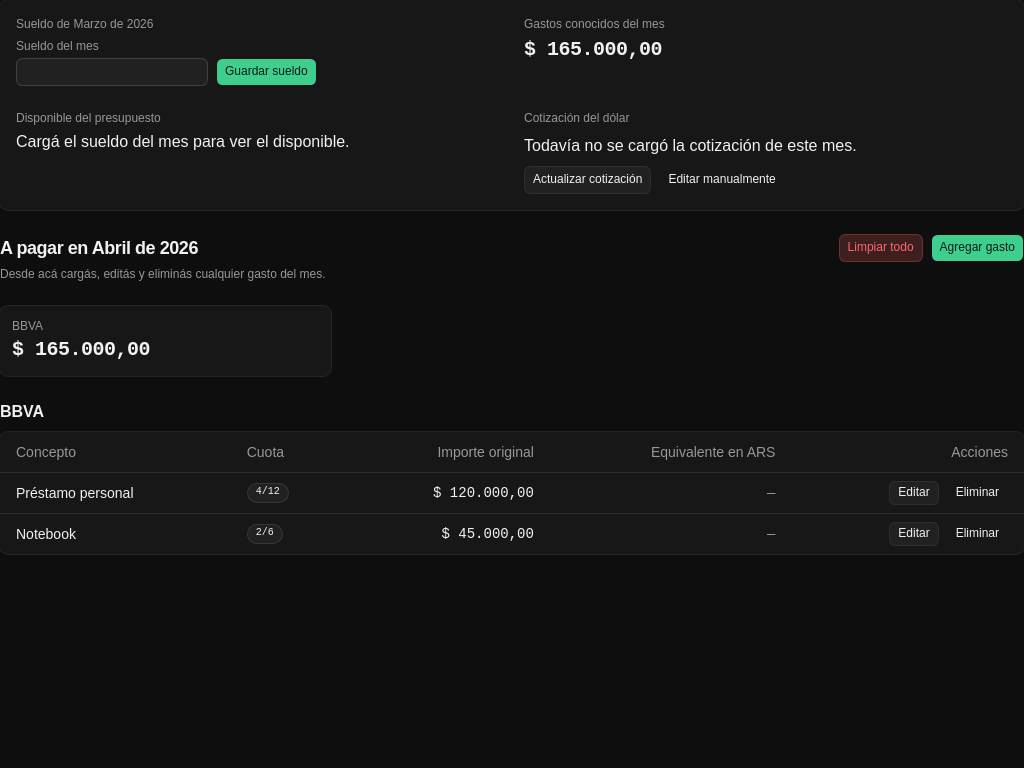
préstamos desde Presupuesto › muestra la cuota del mes y consulta solo los préstamos al abrir el formulario
Expected: the text "Préstamo personal" is shown, left=0, top=472, right=231, bottom=513
Expected: the icon "4/12" is shown, left=247, top=482, right=289, bottom=502
Click the button "Agregar gasto" at (977, 248), box left=931, top=234, right=1023, bottom=262
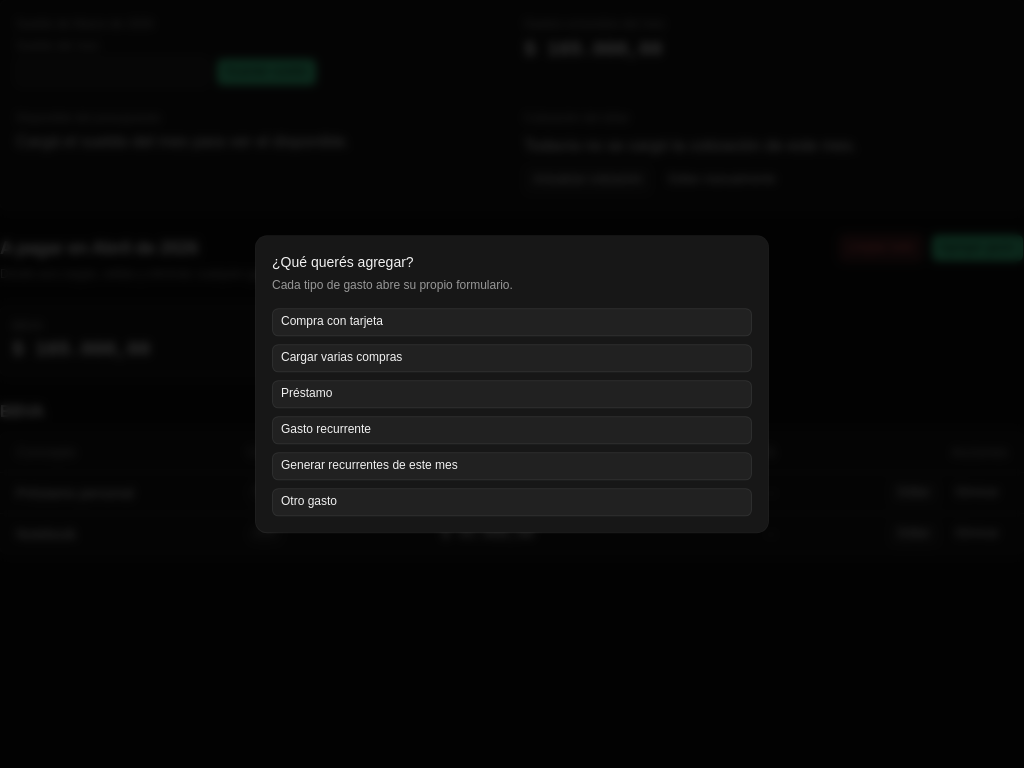
Click the button "Préstamo" at (307, 393), box left=272, top=380, right=752, bottom=408
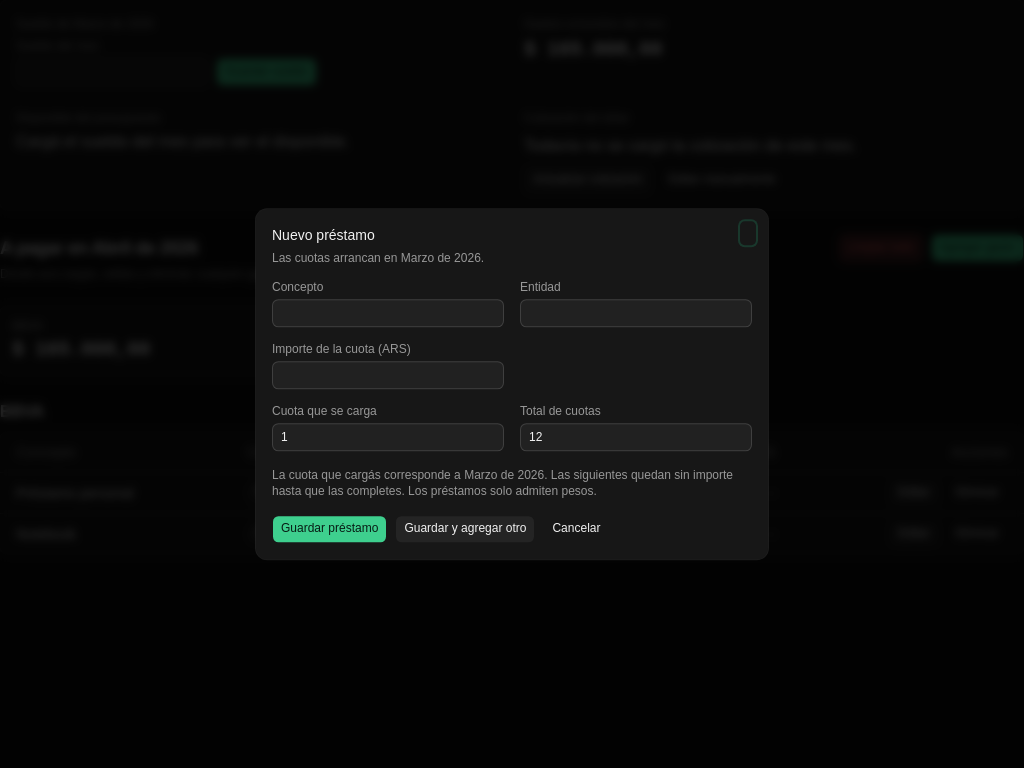
Expected: the field labelled "Concepto" is shown, left=272, top=299, right=504, bottom=327
